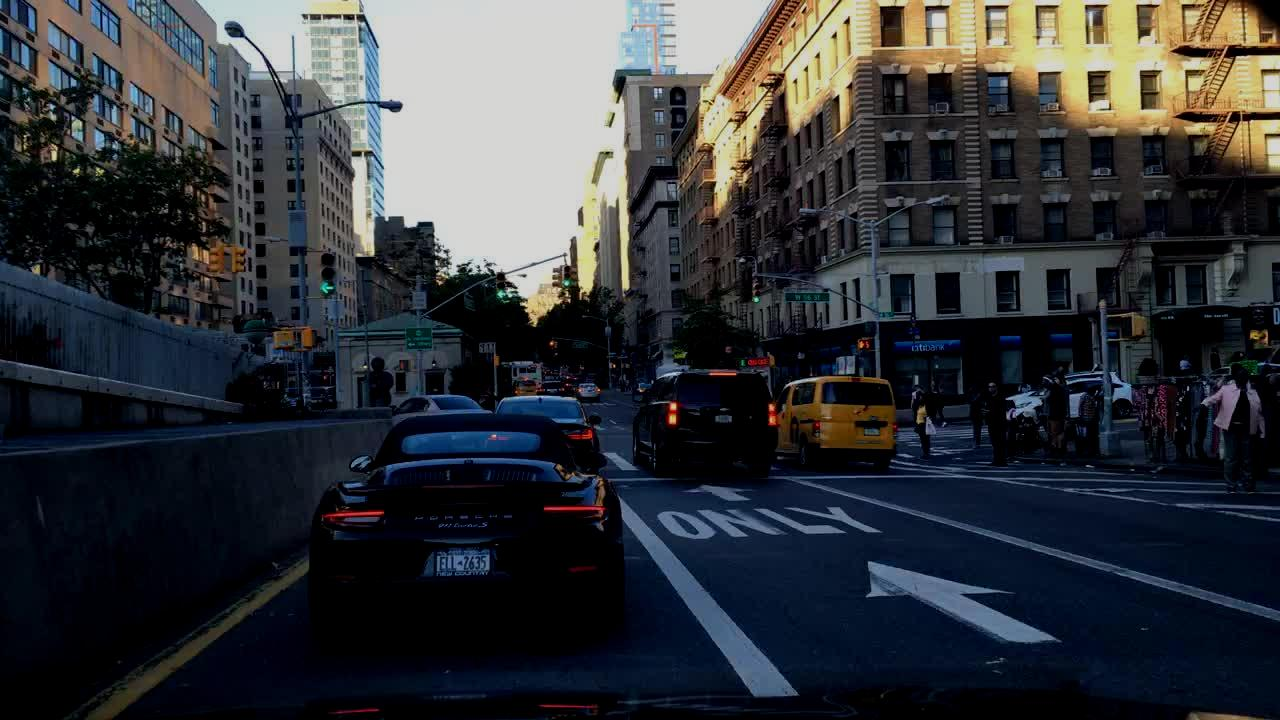Nissan: (850, 404, 867, 422)
chevrolet: (715, 405, 738, 415)
porsche: (406, 507, 520, 523)
